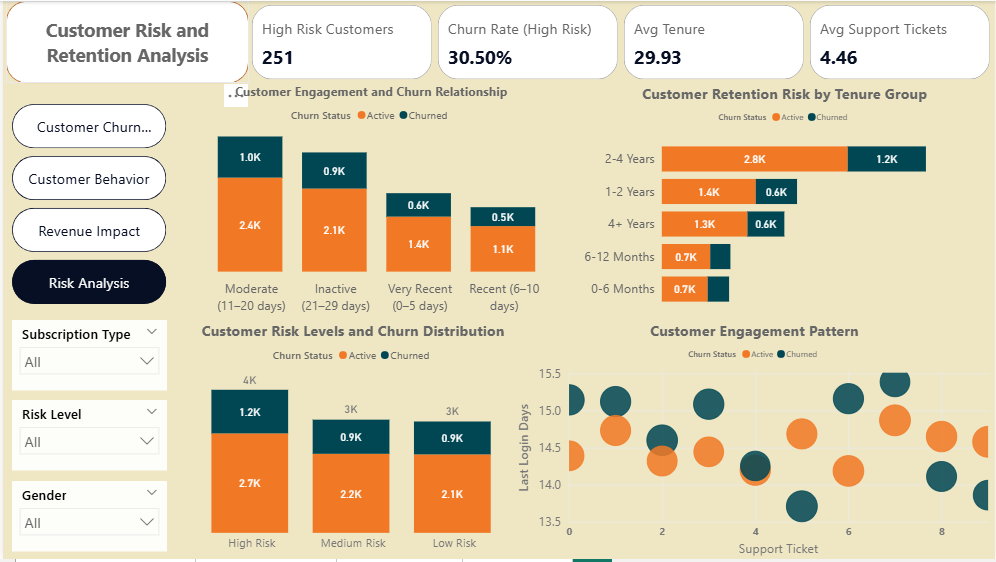

Layout of this report page (visuals, bound fields, positions):
{"tool":"powerbi","page":{"name":"Risk Analysis","canvas":[1280,720],"ordinal":3},"visuals":[{"type":"cardVisual","fields":{"Data":["Measure.High Risk Customers","Measure.Churn Rate (High Risk)","Measure.Avg Tenure","Measure.Avg Support Tickets"]},"box":[316.1,0,963.8,106.3],"z":0},{"type":"shape","box":[4.3,0,313.2,106.3],"z":1000},{"type":"barChart","title":"Customer Retention Risk by Tenure Group","fields":{"Category":["customer_retention_dataset.Tenure Group"],"Series":["customer_retention_dataset.Churn Status"],"Y":["Measure.Total Customer"]},"box":[738.4,106.3,541.4,304.7],"z":2000},{"type":"columnChart","title":"Customer Risk Levels and Churn Distribution","fields":{"Y":["Measure.Total Customer"],"Series":["customer_retention_dataset.Churn Status"],"Category":["customer_retention_dataset.Risk Level"]},"box":[211.2,411,480.5,309],"z":3000},{"type":"columnChart","title":"Customer Engagement and Churn Relationship","fields":{"Category":["customer_retention_dataset.Engagement Status"],"Series":["customer_retention_dataset.Churn Status"],"Y":["Measure.Total Customer"]},"box":[211.2,106.3,527.2,304.7],"z":4000},{"type":"pageNavigator","box":[11.3,133.2,199.8,260.8],"z":5000},{"type":"slicer","fields":{"Values":["customer_retention_dataset.gender"]},"box":[11.3,619.4,199.8,90.7],"z":6000},{"type":"slicer","fields":{"Values":["customer_retention_dataset.Risk Level"]},"box":[11.3,514.5,199.8,90.7],"z":7000},{"type":"slicer","fields":{"Values":["customer_retention_dataset.subscription_type"]},"box":[11.3,411,199.8,90.7],"z":8000},{"type":"scatterChart","title":"Customer Engagement Pattern","fields":{"Series":["customer_retention_dataset.Churn Status"],"X":["customer_retention_dataset.support_tickets"],"Y":["Avg(customer_retention_dataset.last_login_days)"],"Size":["Avg(customer_retention_dataset.tenure_months)"]},"box":[659.1,411,620.8,309],"z":9000}]}

Visuals, with their boxes in screenshot pixels (x1, y1, x2, y2), scaled from the page's 1280x720 canvas onto the 996x562 screenshot:
cardVisual - Measure.High Risk Customers x Measure.Churn Rate (High Risk): box(246, 0, 995, 83)
shape: box(3, 0, 247, 83)
"Customer Retention Risk by Tenure Group" barChart: box(575, 83, 995, 321)
"Customer Risk Levels and Churn Distribution" columnChart: box(164, 321, 538, 561)
"Customer Engagement and Churn Relationship" columnChart: box(164, 83, 575, 321)
pageNavigator: box(9, 104, 164, 308)
slicer - customer_retention_dataset.gender: box(9, 483, 164, 554)
slicer - customer_retention_dataset.Risk Level: box(9, 402, 164, 472)
slicer - customer_retention_dataset.subscription_type: box(9, 321, 164, 392)
"Customer Engagement Pattern" scatterChart: box(513, 321, 995, 561)
